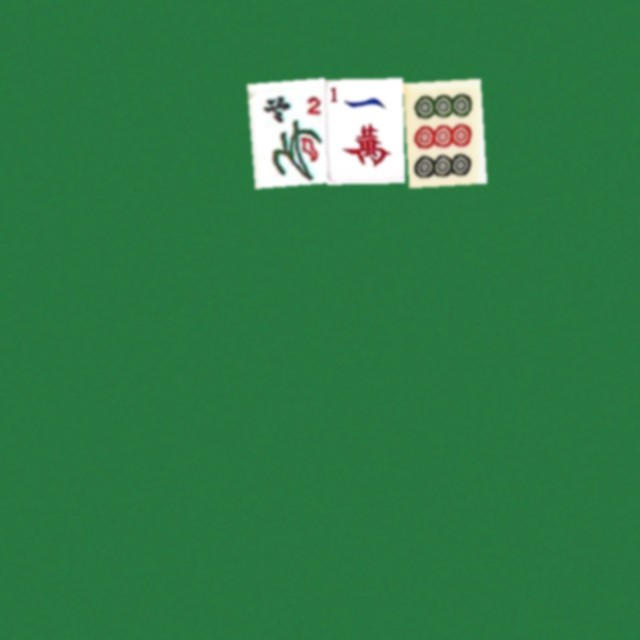tile: (246, 78, 324, 183), (324, 78, 402, 183), (402, 78, 480, 183)
